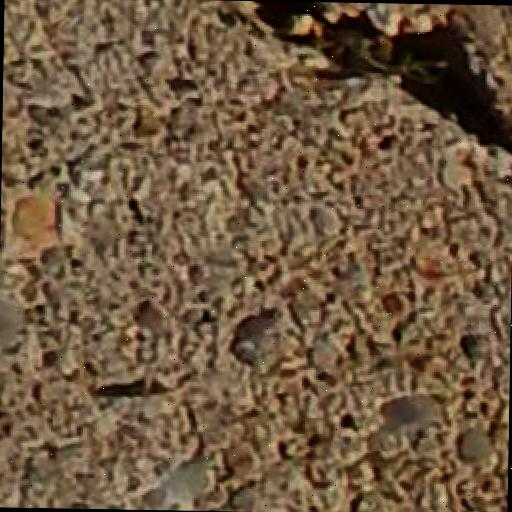spalling: (217, 5, 512, 194)
